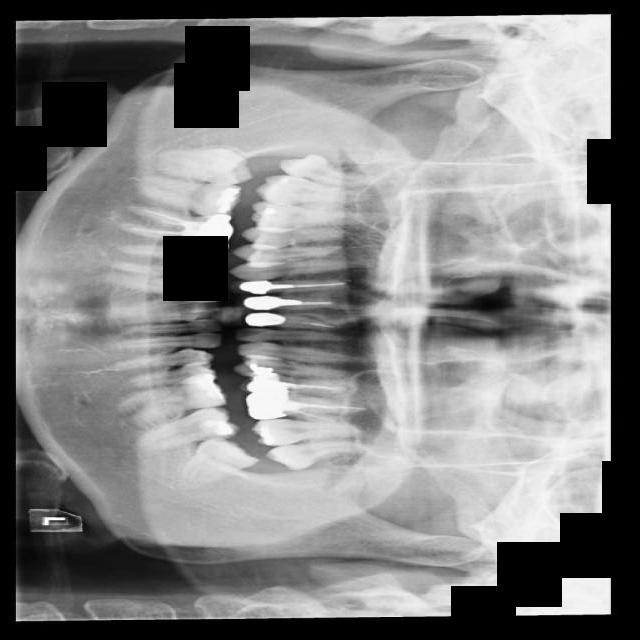3M ESPE Implant: (274, 146, 389, 197)
52: (184, 394, 241, 453), (184, 173, 243, 228), (187, 204, 242, 261), (248, 199, 301, 235), (175, 373, 228, 409), (248, 417, 298, 448), (245, 390, 291, 421), (237, 372, 292, 395), (233, 355, 287, 377), (239, 310, 284, 328), (233, 278, 276, 296), (233, 295, 280, 311)
73: (117, 198, 207, 248), (282, 390, 372, 434), (277, 375, 355, 404), (265, 273, 352, 294), (271, 313, 341, 333), (267, 292, 341, 310), (34, 600, 52, 614)
BioHorizons Implant: (249, 417, 363, 446)
BioLife Implant: (262, 435, 376, 474)
Biomet 3i Implant: (165, 422, 261, 495)
Blue Sky Bio Implant: (132, 401, 242, 454)
Caries: (253, 172, 371, 214)
Implant: (131, 172, 243, 223)
Keystone Dental Implant: (152, 143, 254, 187)
